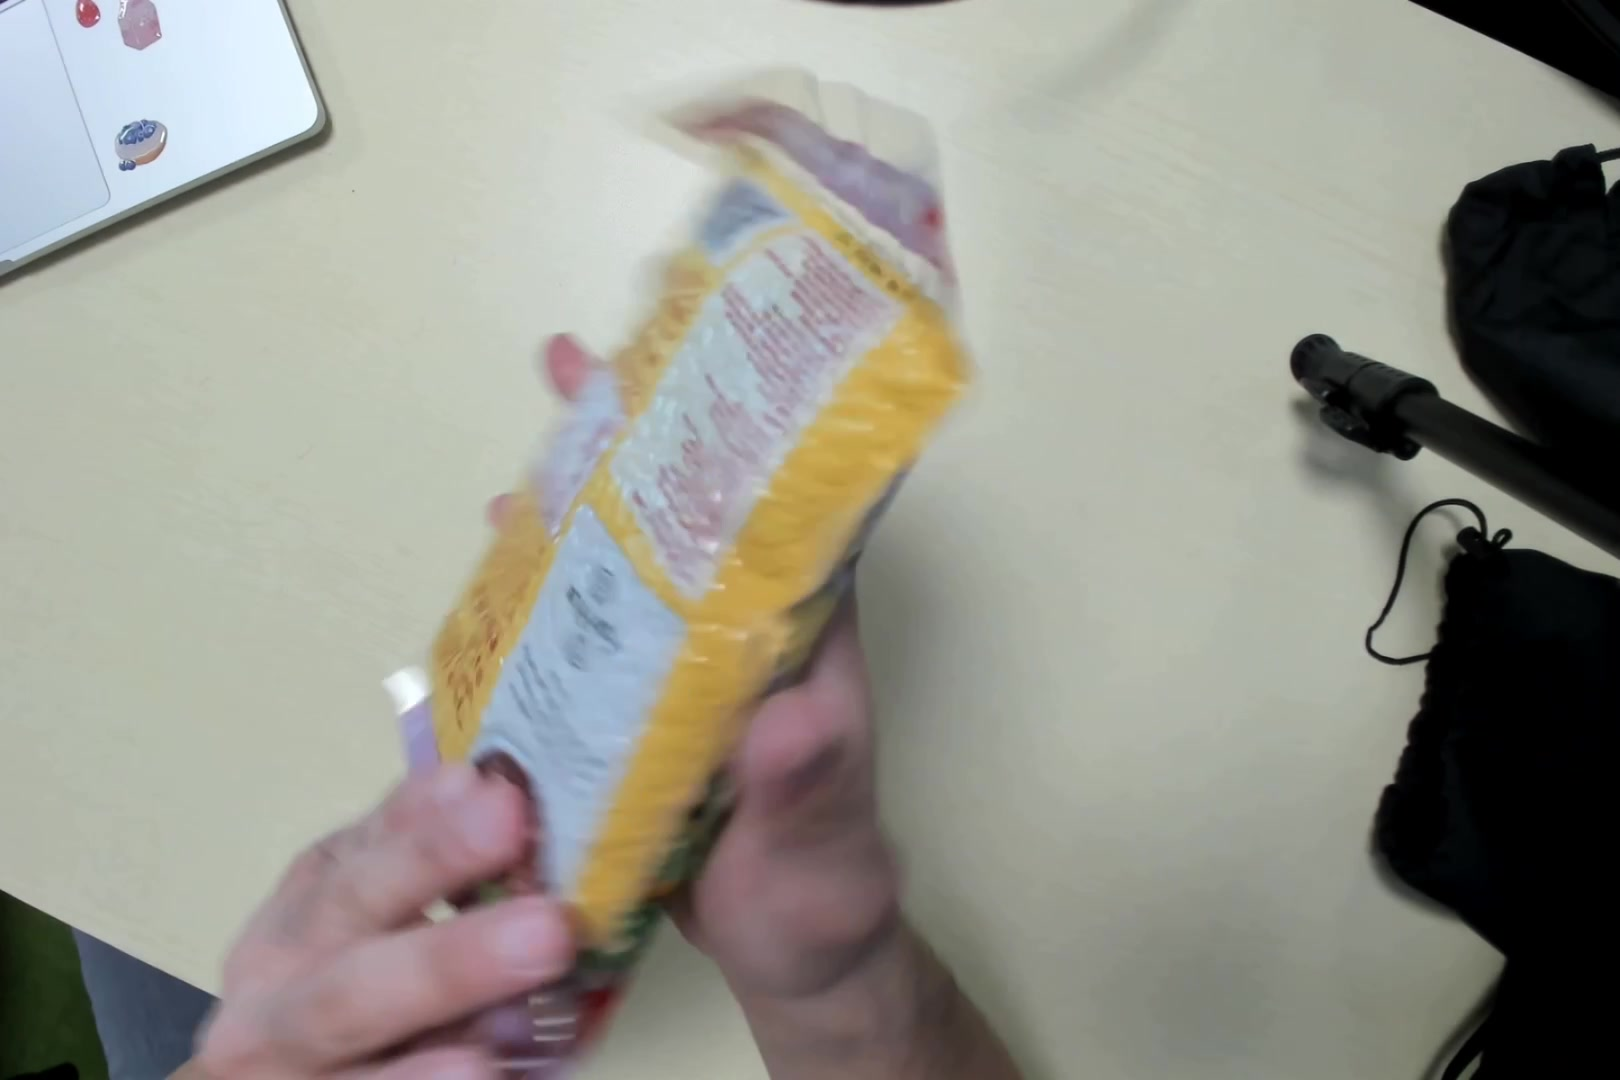Rice(BrownOthers)_500-599g_NonHalal_Healthy: (392, 67, 984, 1080)
